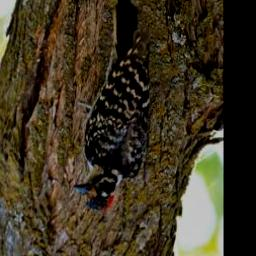Woodpecker: (75, 0, 146, 215)
